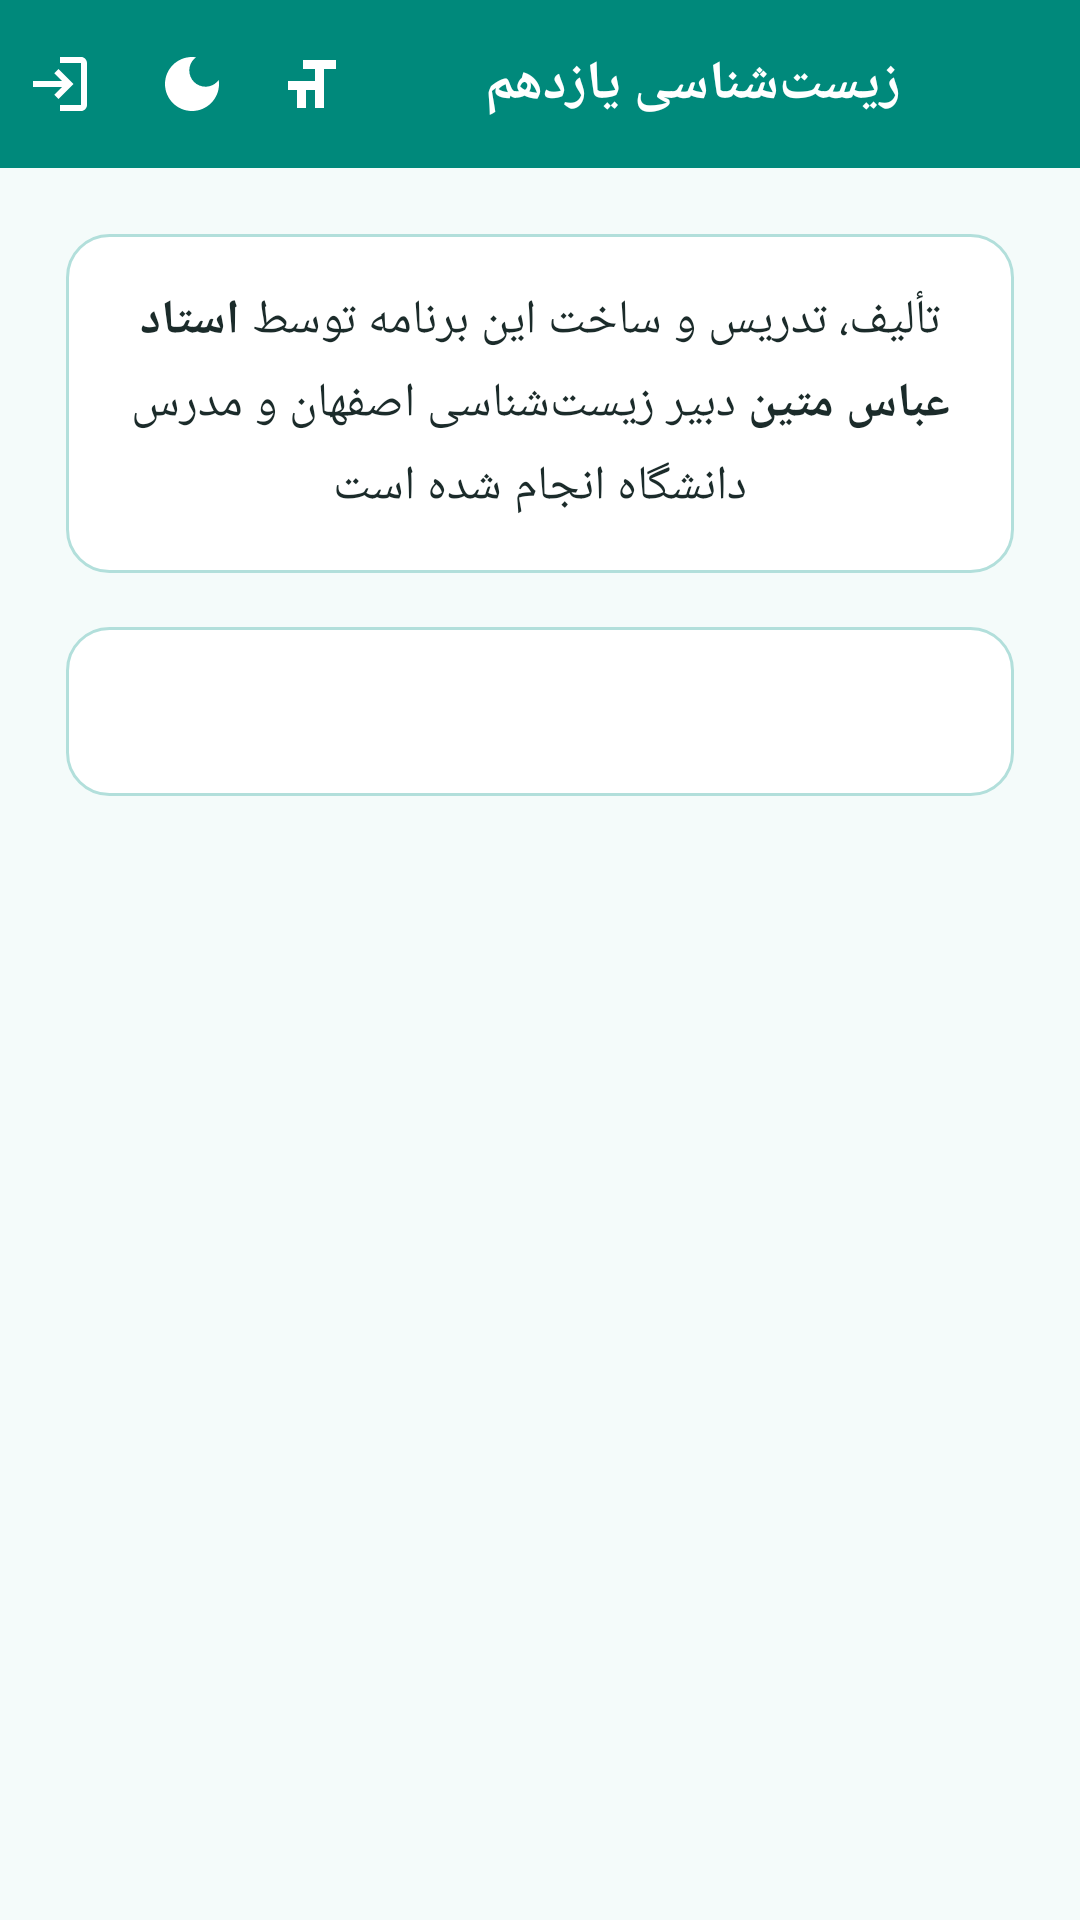

Where icons sit on this 1080*1920 app screen, as (x1, y1, x2, y2):
اندازه فونت: (288, 60, 336, 108)
حالت تاریک: (165, 57, 219, 111)
خروج: (33, 57, 87, 111)
